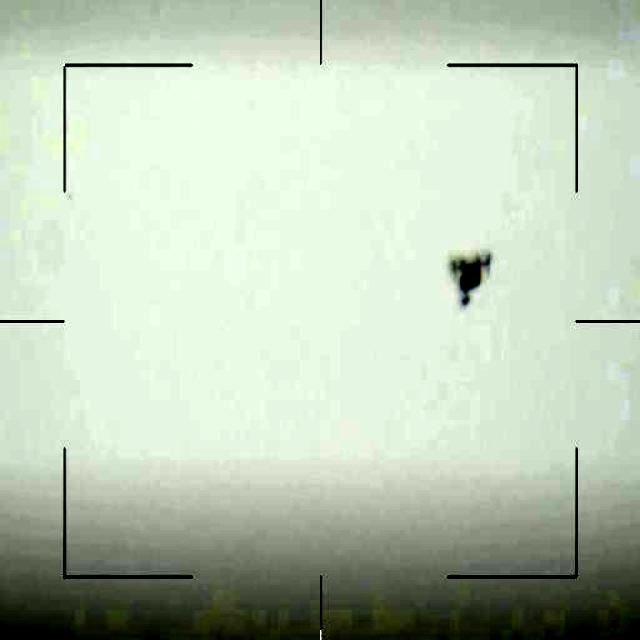bird: (442, 245, 500, 309)
